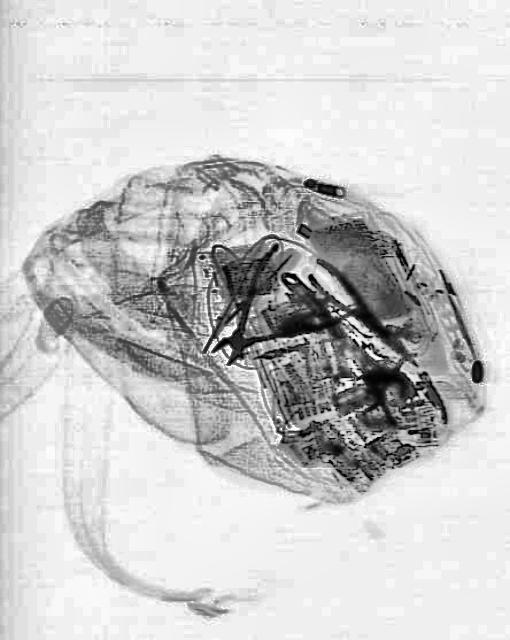Pliers: (188, 223, 352, 403), (302, 254, 426, 378)
Wrench: (268, 250, 420, 422)
